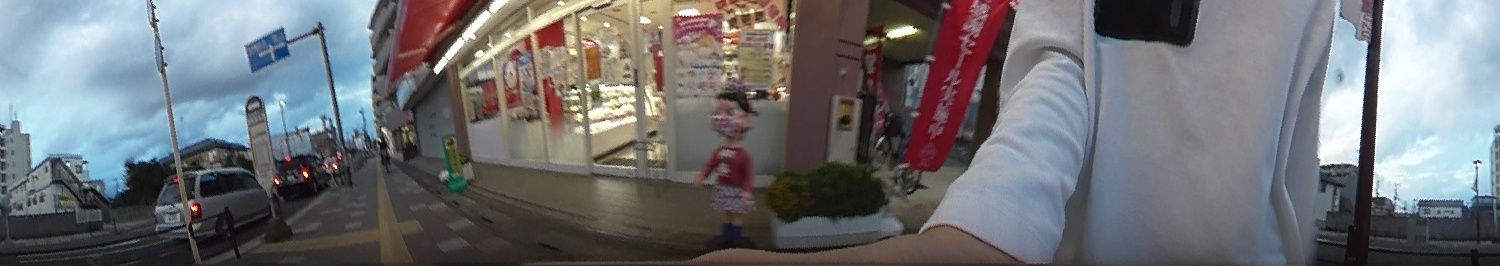difficult_person: (374, 126, 395, 172)
